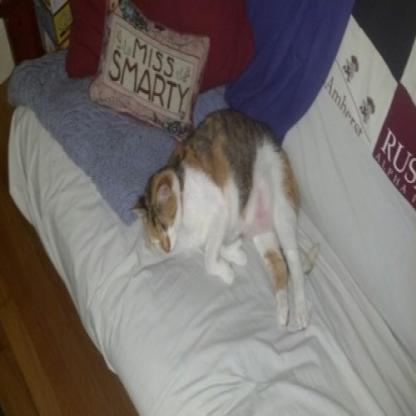Target: (135, 106, 318, 337)
